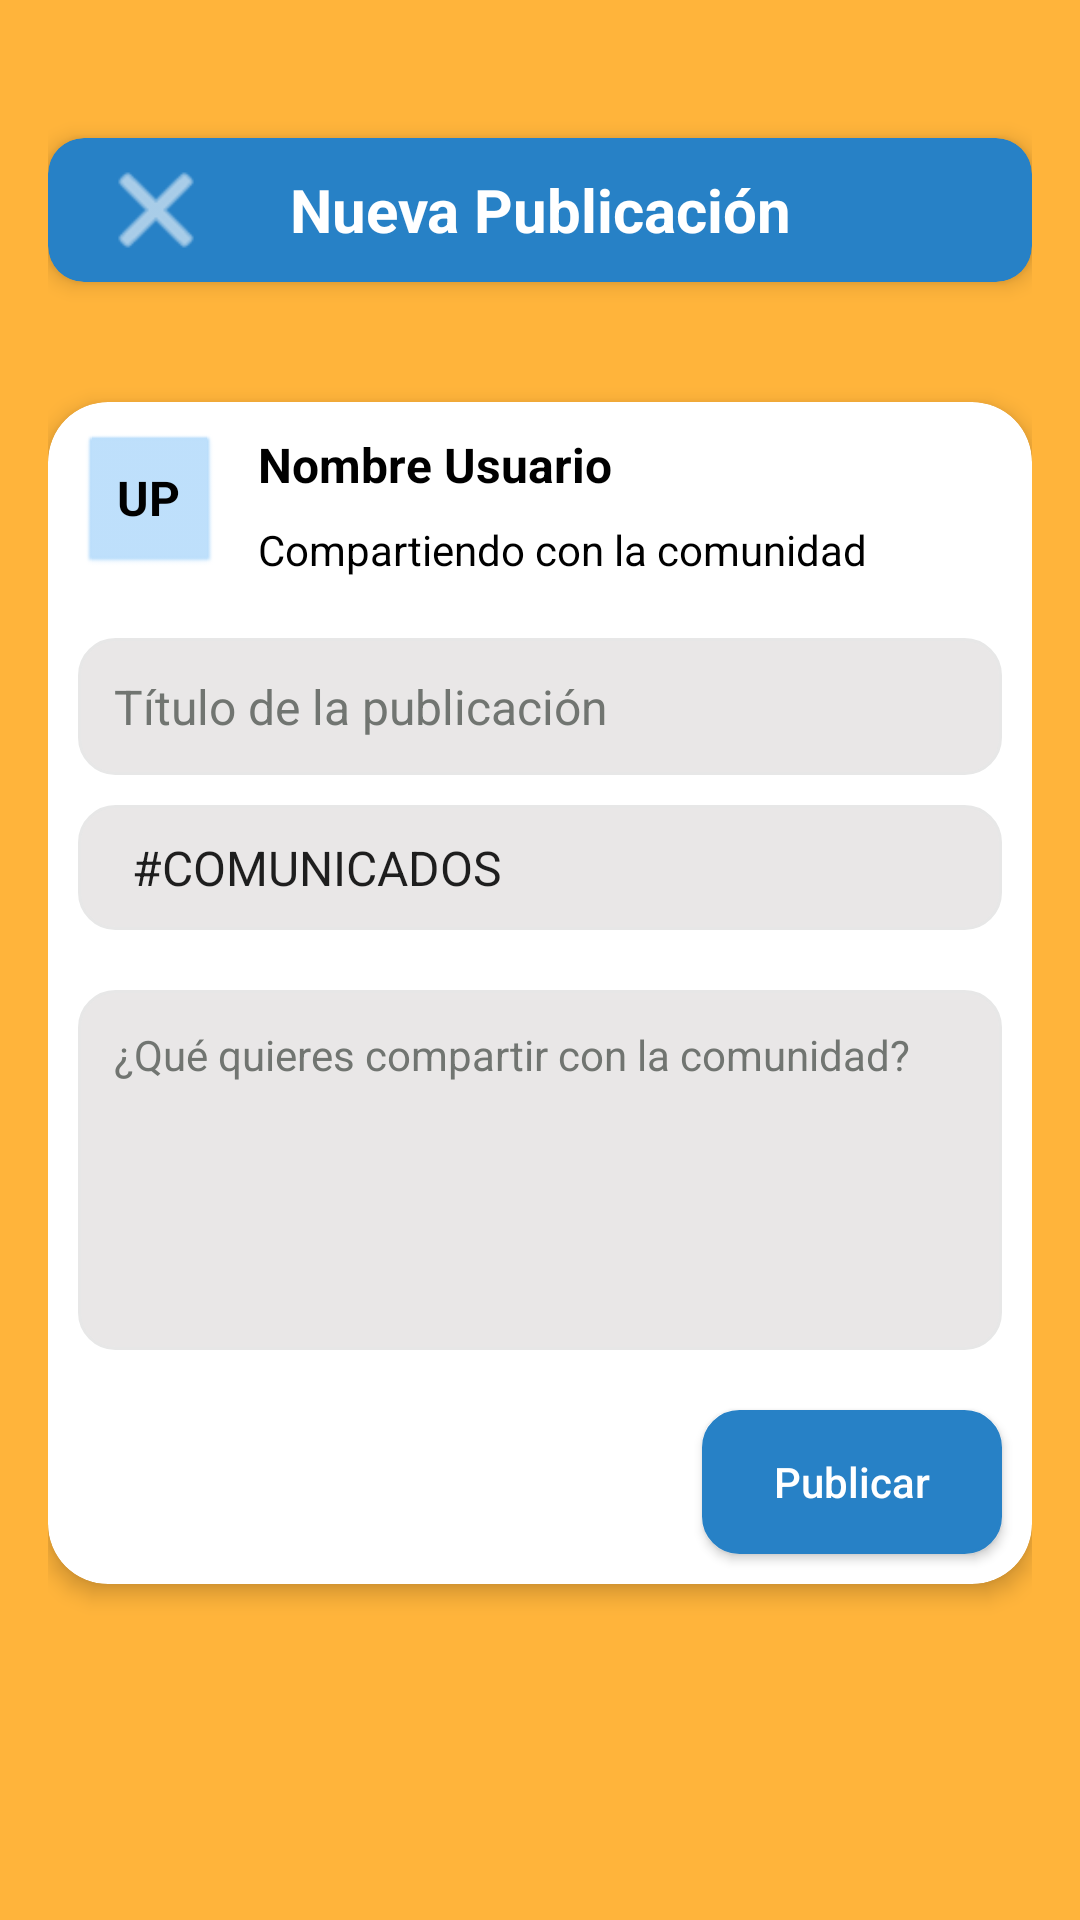

Named icons in this screenshot (1080w x 1920h) and their centers, (x,y):
Cerrar: (156,210)
